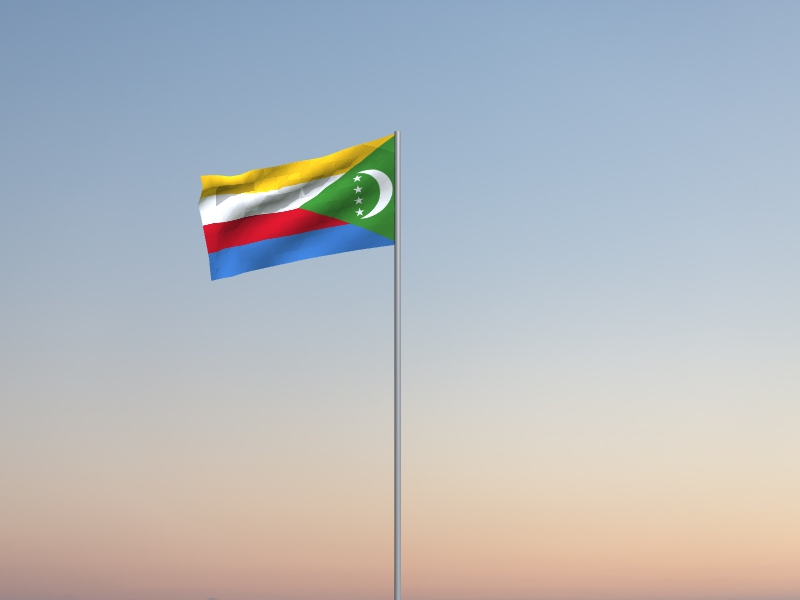km: (197, 134, 395, 283)
